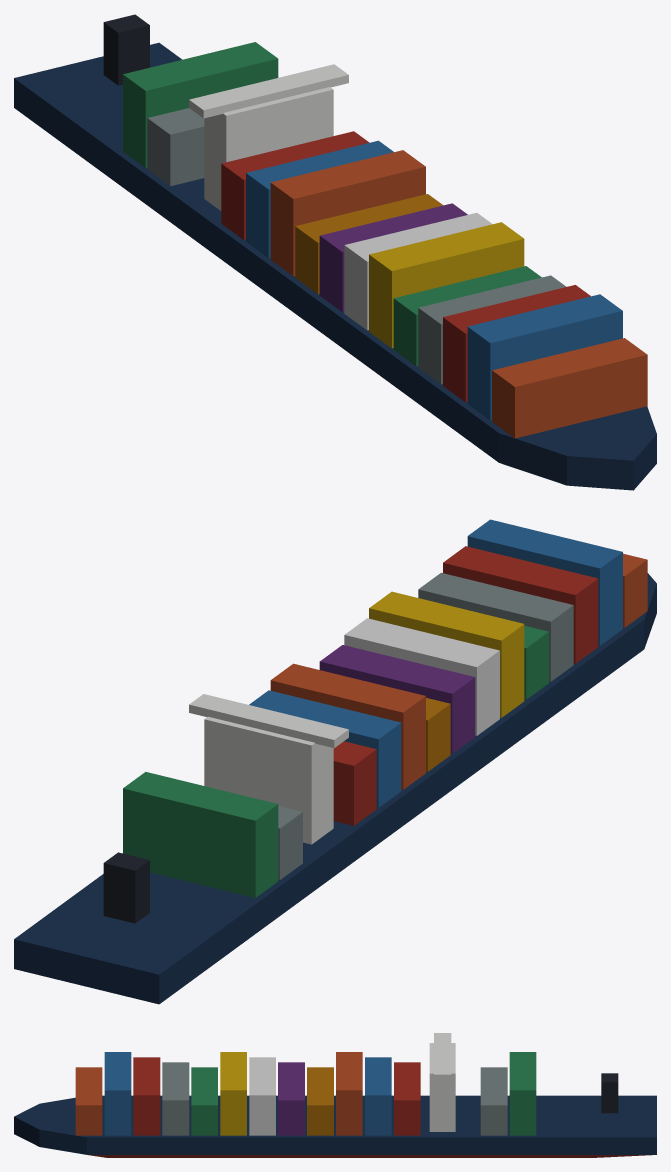
The model's file is ship_container.glb.
The picture shows the model from 3 angles, top to bottom: view 1: azimuth 30°, elevation 25°; view 2: azimuth 150°, elevation 25°; view 3: azimuth 270°, elevation 25°; orthographic projection. The views are drawn at different scales.
Parts seen in each view (by area): view 1: ship_container; view 2: ship_container; view 3: ship_container.
Part boxes in pixels (box(x1,y1,x2,y2)): ship_container: box(14, 14, 656, 490); ship_container: box(14, 519, 656, 1004); ship_container: box(14, 1033, 656, 1157).
Bounding box in the file's own units: 46 × 44.25 × 300.
